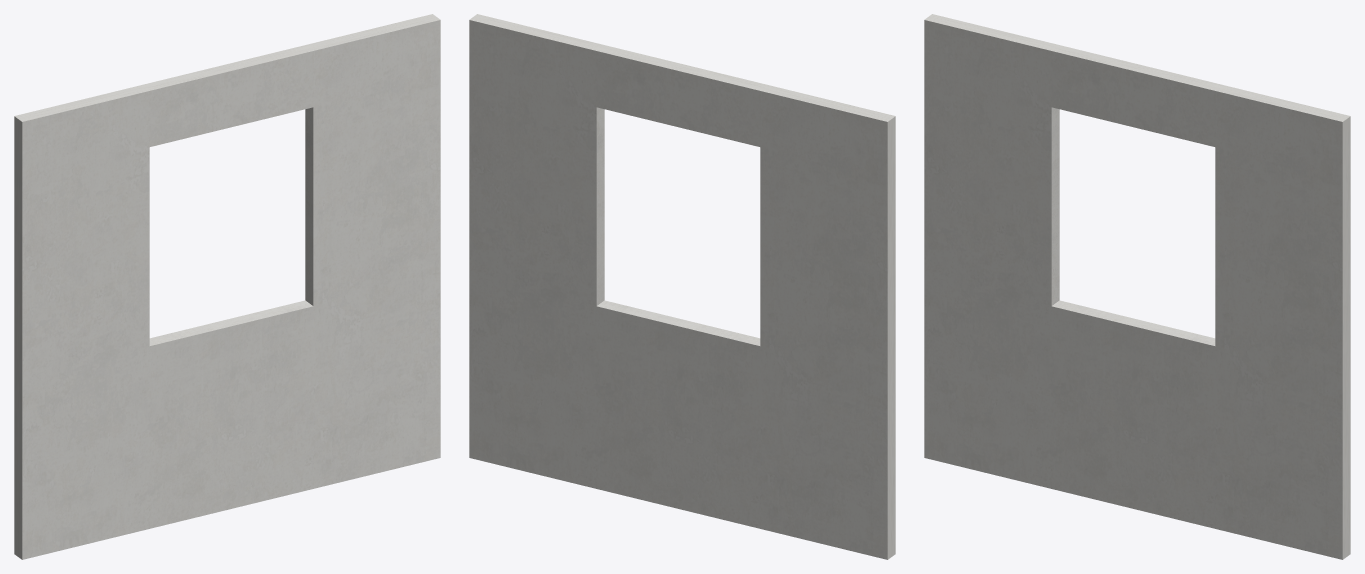
File: Wall_3x3x5_Window.FBX
3 renders of one model, left to right at view 1: azimuth 30°, elevation 25°; view 2: azimuth 150°, elevation 25°; view 3: azimuth 330°, elevation 25°, orthographic.
Parts seen in each view (by area): view 1: Wall_3x3x5_Window; view 2: Wall_3x3x5_Window; view 3: Wall_3x3x5_Window.
Part boxes in pixels (<box>): Wall_3x3x5_Window: <box>14,14,440,559</box>; Wall_3x3x5_Window: <box>469,14,895,559</box>; Wall_3x3x5_Window: <box>924,14,1350,559</box>.
Bounding box in the file's own units: 300 × 300 × 10.
